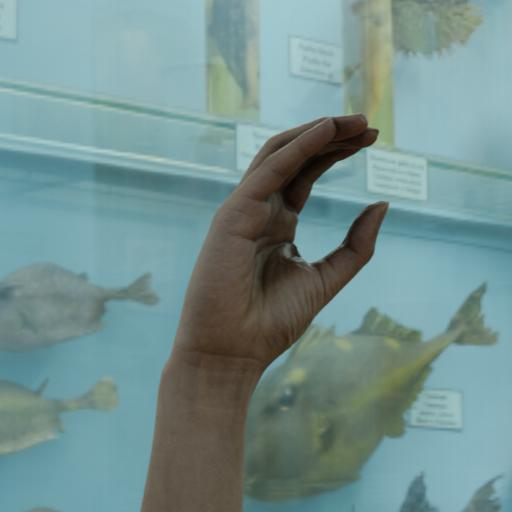C: (174, 80, 424, 398)
